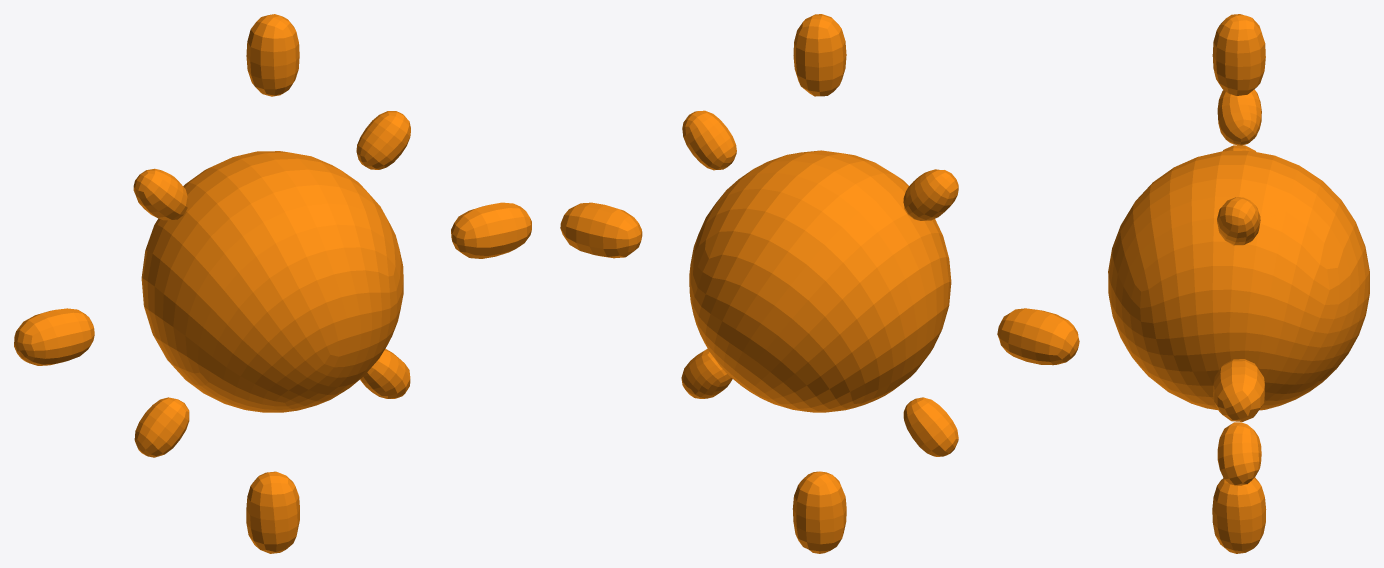
File: sun.glb
3 renders of one model, left to right at view 1: azimuth 30°, elevation 25°; view 2: azimuth 150°, elevation 25°; view 3: azimuth 270°, elevation 25°, orthographic.
Parts seen in each view (by area): view 1: 1; view 2: 1; view 3: 1.
Part boxes in pixels (x1=…): 1: x1=14, y1=14, x2=531, y2=553; 1: x1=560, y1=14, x2=1079, y2=553; 1: x1=1108, y1=14, x2=1369, y2=553.
Size of the model in its own units: 5.23 by 5.22 by 2.31.
1 material, 1 textured.
